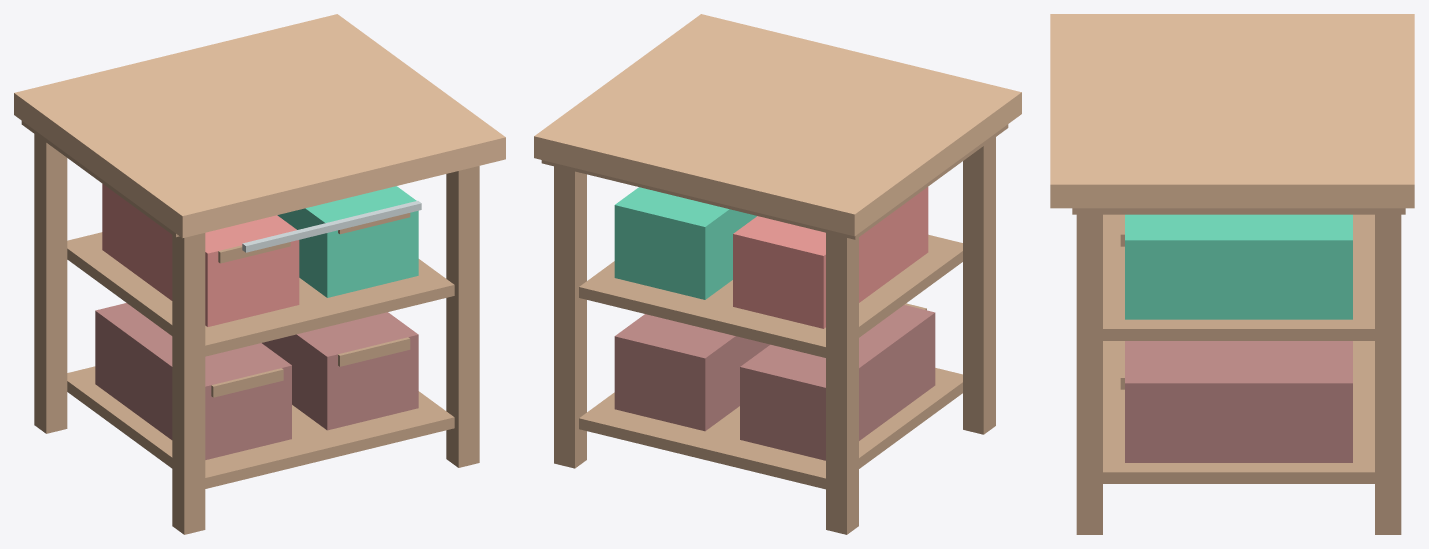
File: counterButcherBlock.glb
The picture shows the model from 3 angles, left to right: view 1: azimuth 30°, elevation 25°; view 2: azimuth 150°, elevation 25°; view 3: azimuth 270°, elevation 25°; orthographic projection. The views are drawn at different scales.
Parts seen in each view (by area): view 1: counterButcherBlock; view 2: counterButcherBlock; view 3: counterButcherBlock.
Boxes of the visible parts, x1,y1,x2,y2 form: counterButcherBlock: [14, 14, 505, 534]; counterButcherBlock: [534, 14, 1021, 534]; counterButcherBlock: [1050, 14, 1414, 534].
Bounding box in the file's own units: 0.46 × 0.45 × 0.415.
